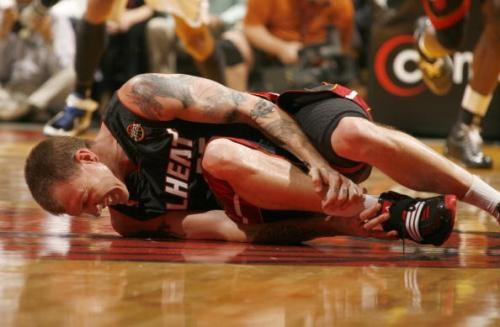falling: (15, 58, 490, 242)
